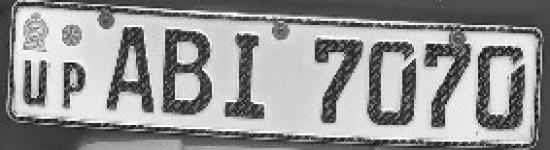0: (366, 36, 421, 135), (475, 44, 528, 140)
7: (306, 34, 364, 132), (420, 38, 472, 137)
B: (162, 25, 217, 121)
I: (223, 31, 274, 122)
P: (105, 23, 157, 117), (57, 60, 92, 115)
U: (18, 52, 52, 114)
